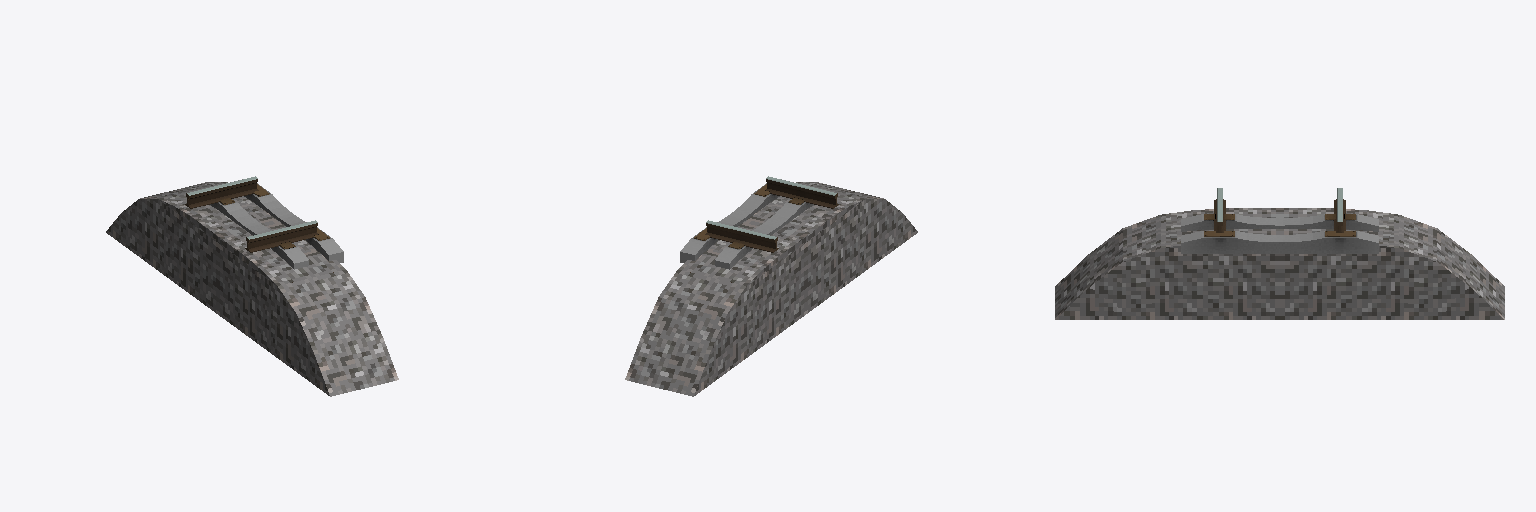
3 views of the same model, side by side, from view 1: azimuth 30°, elevation 25°; view 2: azimuth 150°, elevation 25°; view 3: azimuth 270°, elevation 25° (orthographic).
Parts seen in each view (by area): view 1: RAIL_BASE.001_Cube.009, RAIL_BASE_Cube.001, RAIL_BASE.002_Cube.005, RAIL_RIGHT_Cube.010, RAIL_LEFT_Cube.002; view 2: RAIL_BASE.001_Cube.009, RAIL_BASE_Cube.001, RAIL_BASE.002_Cube.005, RAIL_LEFT_Cube.002, RAIL_RIGHT_Cube.010; view 3: RAIL_BASE.001_Cube.009, RAIL_BASE.002_Cube.005, RAIL_BASE_Cube.001, RAIL_BASE.005_Cube.003.
Part boxes in pixels (left/top/right/bottom): RAIL_BASE.001_Cube.009: left=106, top=182, right=398, bottom=396; RAIL_BASE_Cube.001: left=159, top=182, right=345, bottom=285; RAIL_BASE.002_Cube.005: left=197, top=179, right=343, bottom=269; RAIL_RIGHT_Cube.010: left=185, top=176, right=258, bottom=208; RAIL_LEFT_Cube.002: left=245, top=220, right=318, bottom=252; RAIL_BASE.001_Cube.009: left=625, top=182, right=917, bottom=396; RAIL_BASE_Cube.001: left=678, top=182, right=864, bottom=285; RAIL_BASE.002_Cube.005: left=680, top=179, right=826, bottom=269; RAIL_LEFT_Cube.002: left=765, top=176, right=838, bottom=208; RAIL_RIGHT_Cube.010: left=705, top=220, right=778, bottom=252; RAIL_BASE.001_Cube.009: left=1055, top=215, right=1504, bottom=319; RAIL_BASE.002_Cube.005: left=1181, top=214, right=1378, bottom=253; RAIL_BASE_Cube.001: left=1161, top=208, right=1398, bottom=247; RAIL_BASE.005_Cube.003: left=1204, top=214, right=1355, bottom=236.
Bounding box in the file's own units: 1.11 × 1.37 × 5.66.
1 materials, 1 textured.